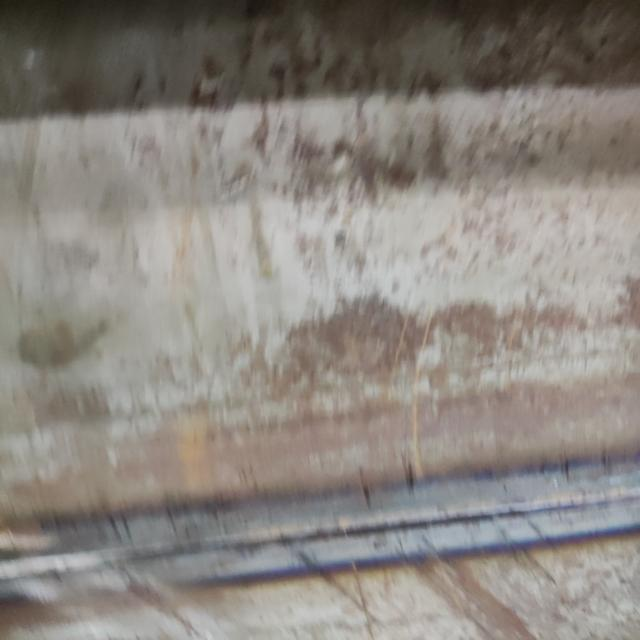seam: (0, 439, 640, 638)
